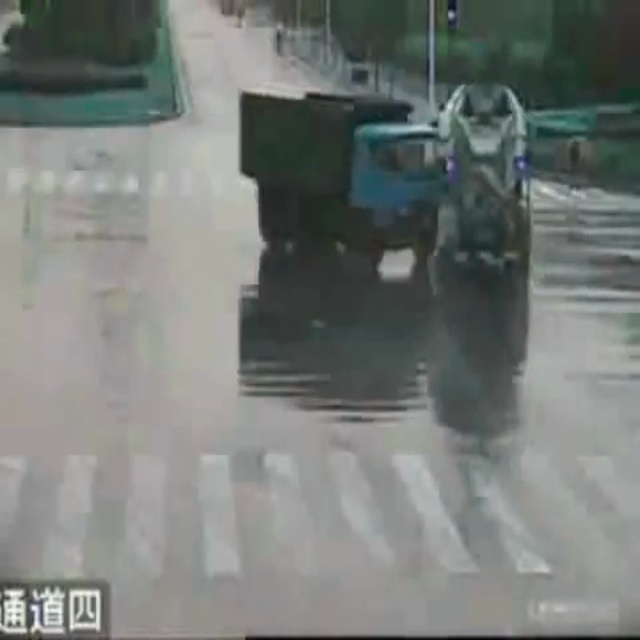acc: (224, 72, 534, 297)
